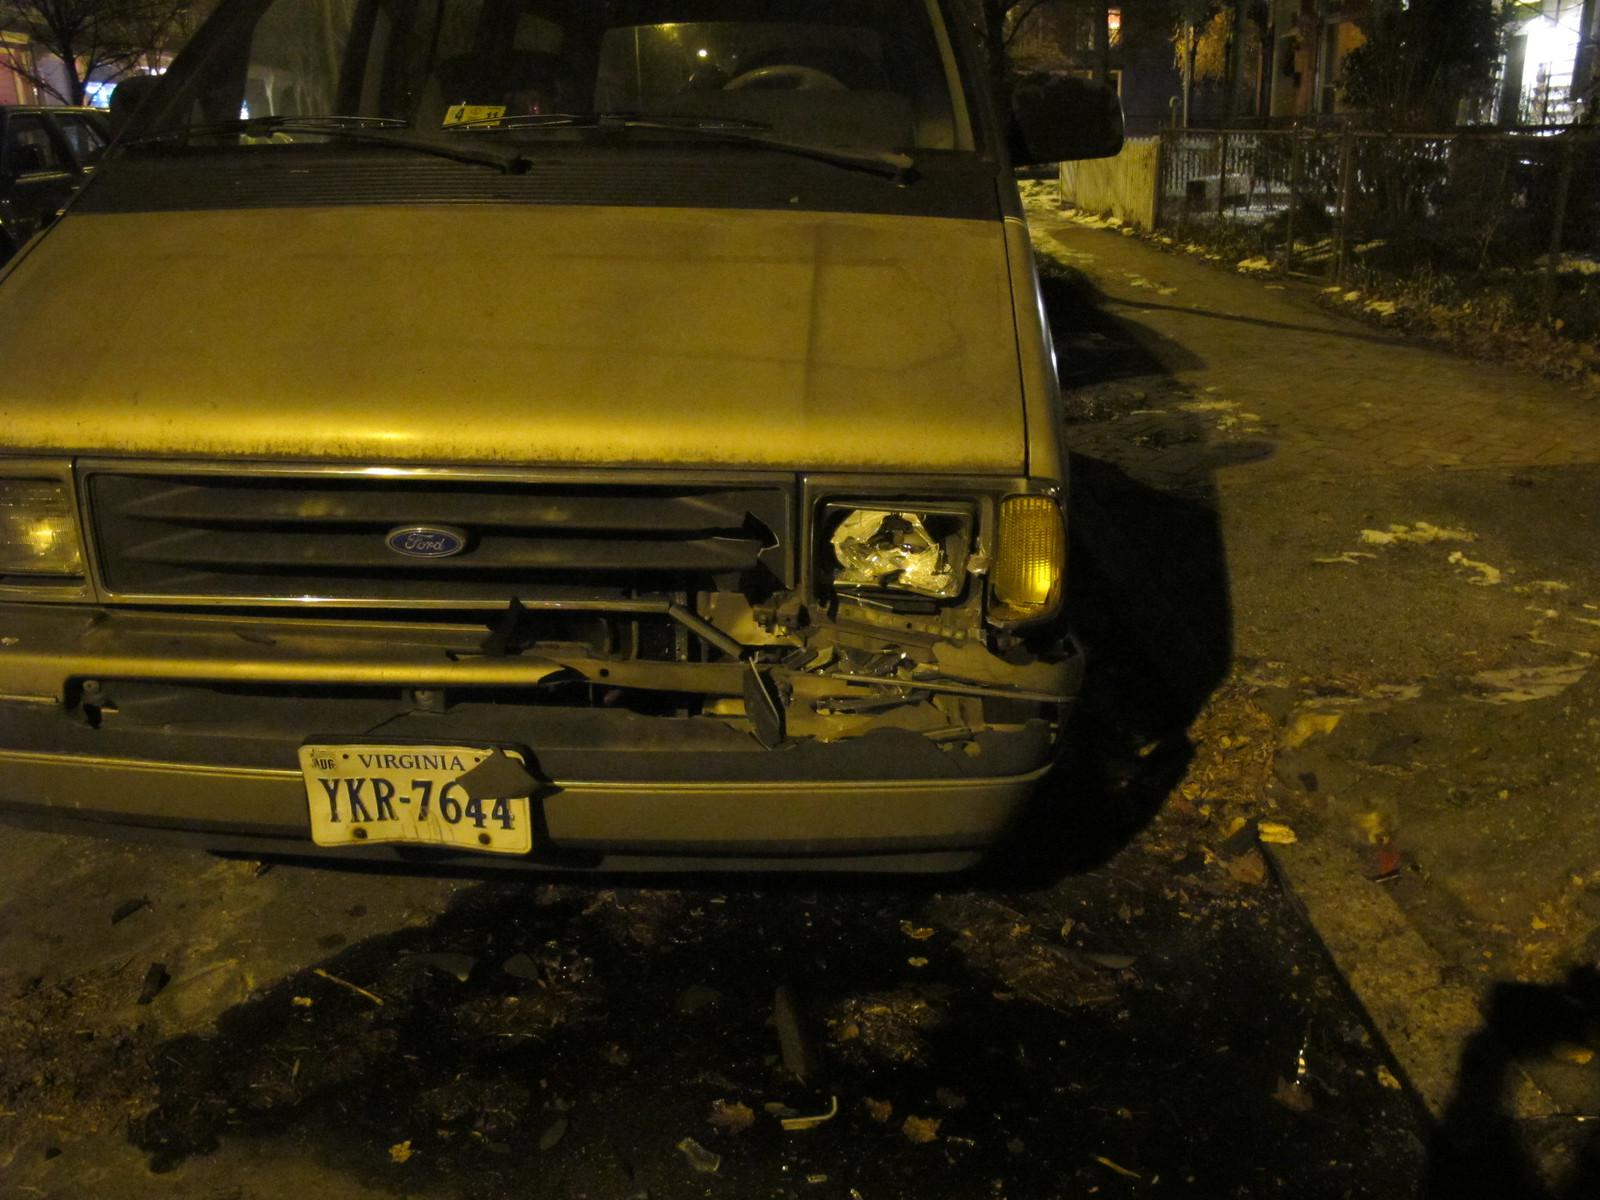Headlight-Damage: (718, 453, 1031, 693)
